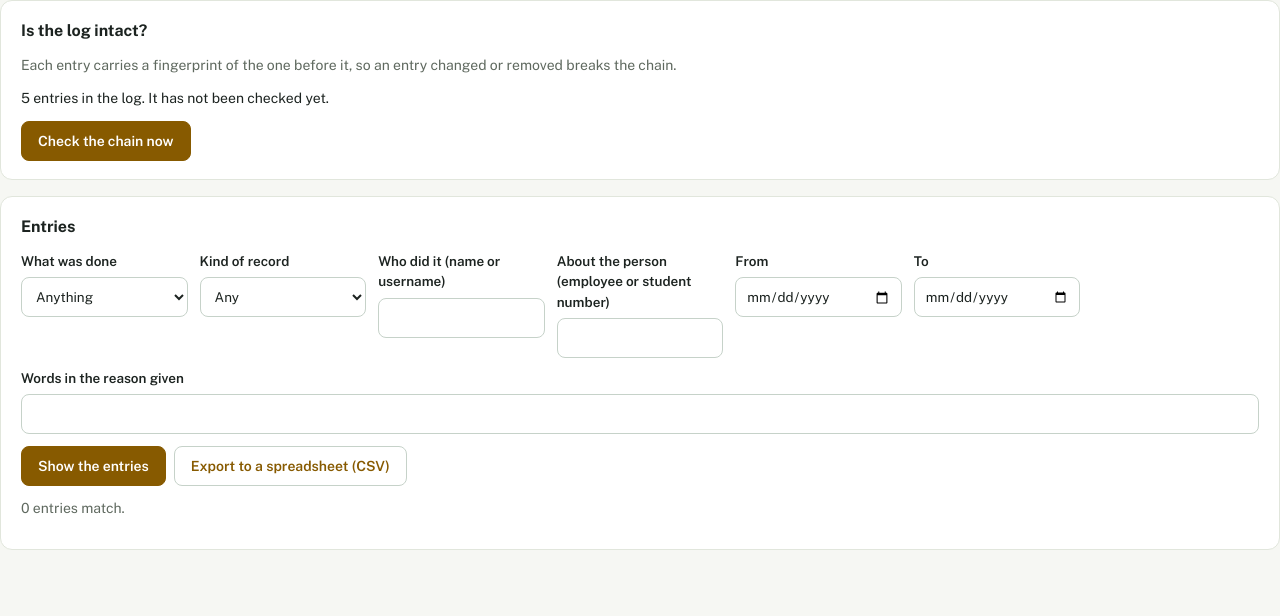
it: the audit log (item 1.17) › says whether the log is intact, and checks the chain now
Expected: the text "5 entries in the log. It has not been checked yet." is shown, [21, 90, 329, 106]
Click the button "Check the chain now". click: (106, 141)
box: [21, 121, 191, 161]
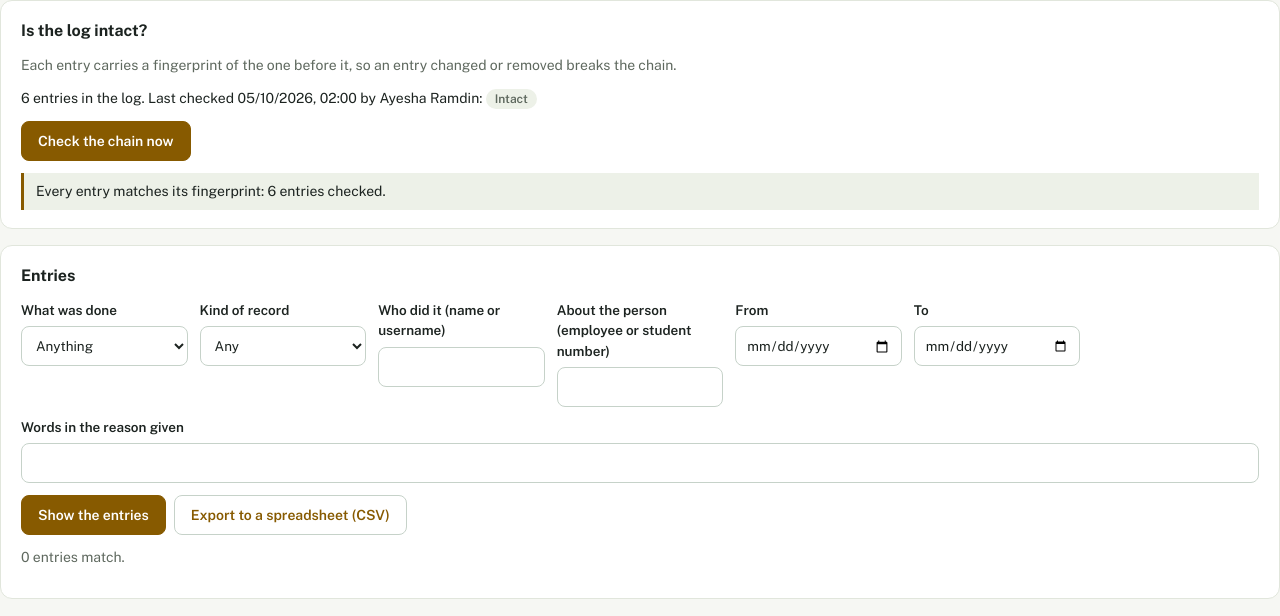
Now the message reads "Every entry matches its fingerprint: 6 entries checked.", box [36, 183, 386, 199]
Now the text "Intact" is shown, box [486, 89, 537, 109]
Click the button "Check the chain now". click: (106, 141)
box: [21, 121, 191, 161]
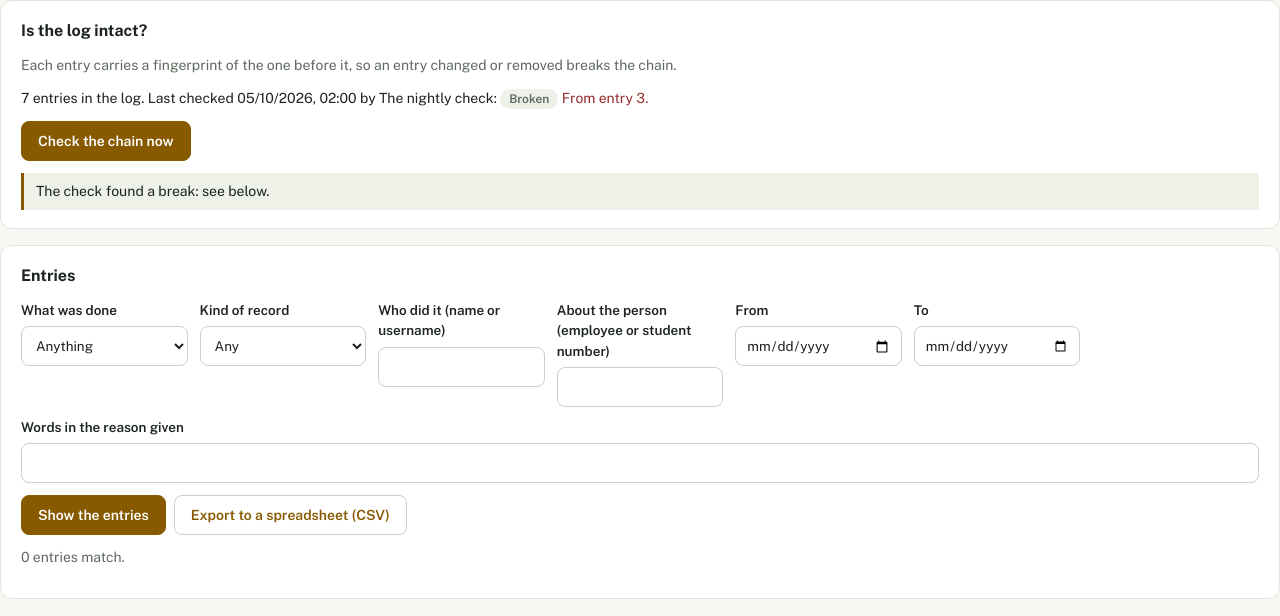
Now the text "Broken" is shown, box [500, 89, 558, 109]
Now the text "From entry 3." is shown, box [558, 90, 648, 106]
